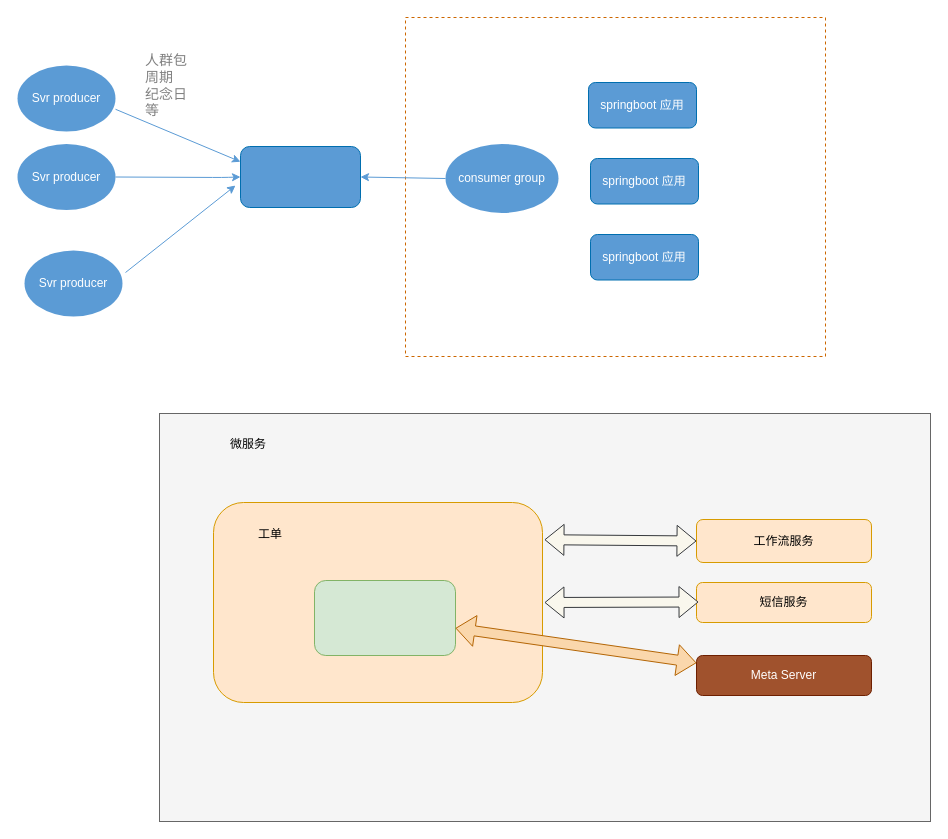
This 948x839 diagram has some shape labels left out. Each missing label, with the centre of its shape:
"frm (UDF等)" belongs at pixel 385 618.
"topic" belongs at pixel 300 177.
